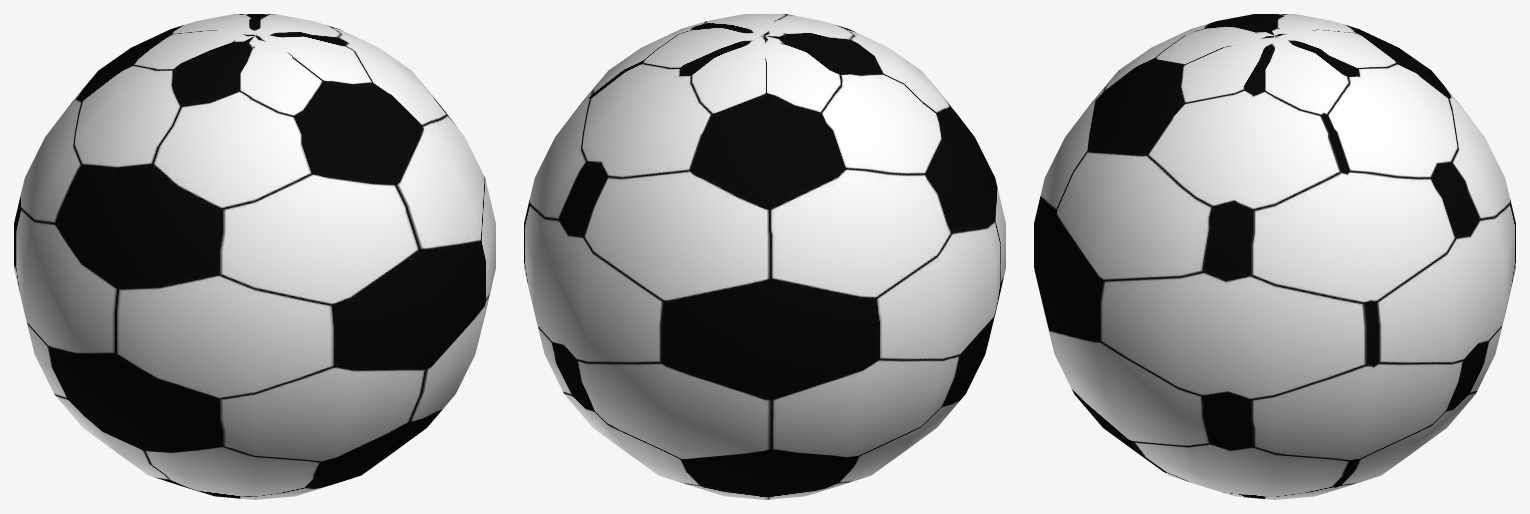
The model's file is 002_ball_soccer.obj.
3 views of the same model, side by side, from view 1: azimuth 30°, elevation 25°; view 2: azimuth 150°, elevation 25°; view 3: azimuth 270°, elevation 25° (orthographic).
Parts seen in each view (by area): view 1: Mesa_style.001; view 2: Mesa_style.001; view 3: Mesa_style.001.
Part boxes in pixels (x1,y1,x2,y2): Mesa_style.001: [14, 14, 495, 499]; Mesa_style.001: [524, 14, 1005, 499]; Mesa_style.001: [1034, 14, 1515, 499].
Bounding box in the file's own units: 1.98 × 2.02 × 2.
Materials: 1 (1 with a texture image).
